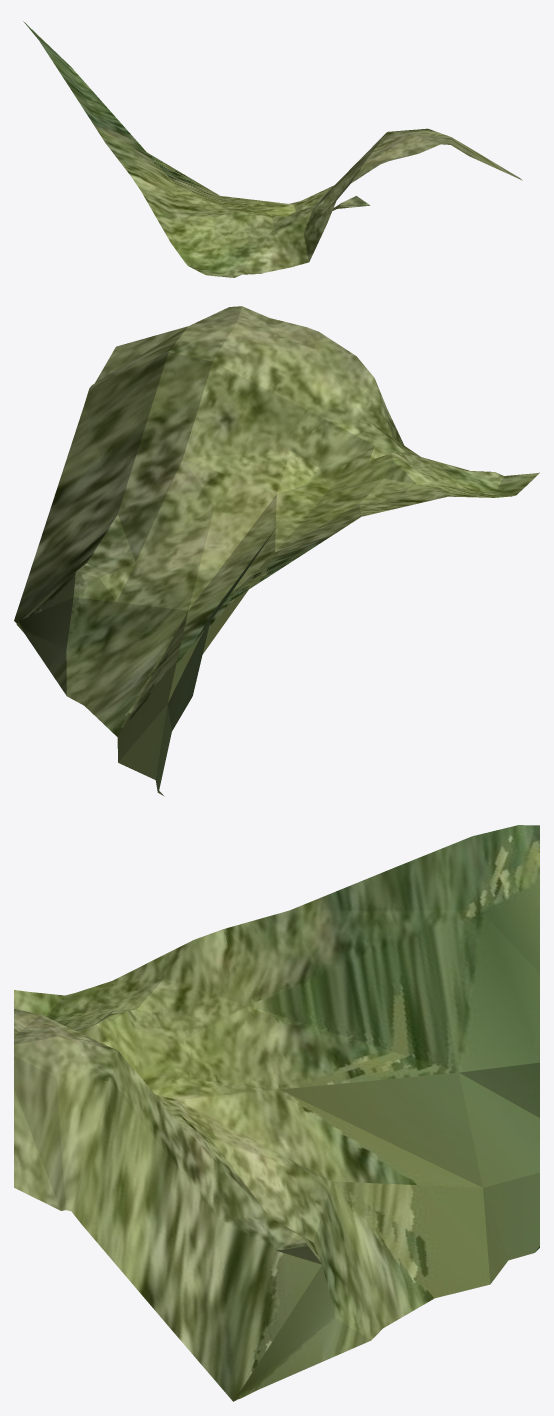
3 renders of one model, top to bottom at view 1: azimuth 30°, elevation 25°; view 2: azimuth 150°, elevation 25°; view 3: azimuth 270°, elevation 25°, orthographic. The views are drawn at different scales.
Bounding box in the file's own units: 2.95 × 2.19 × 2.95.
3 materials, 3 textured.
